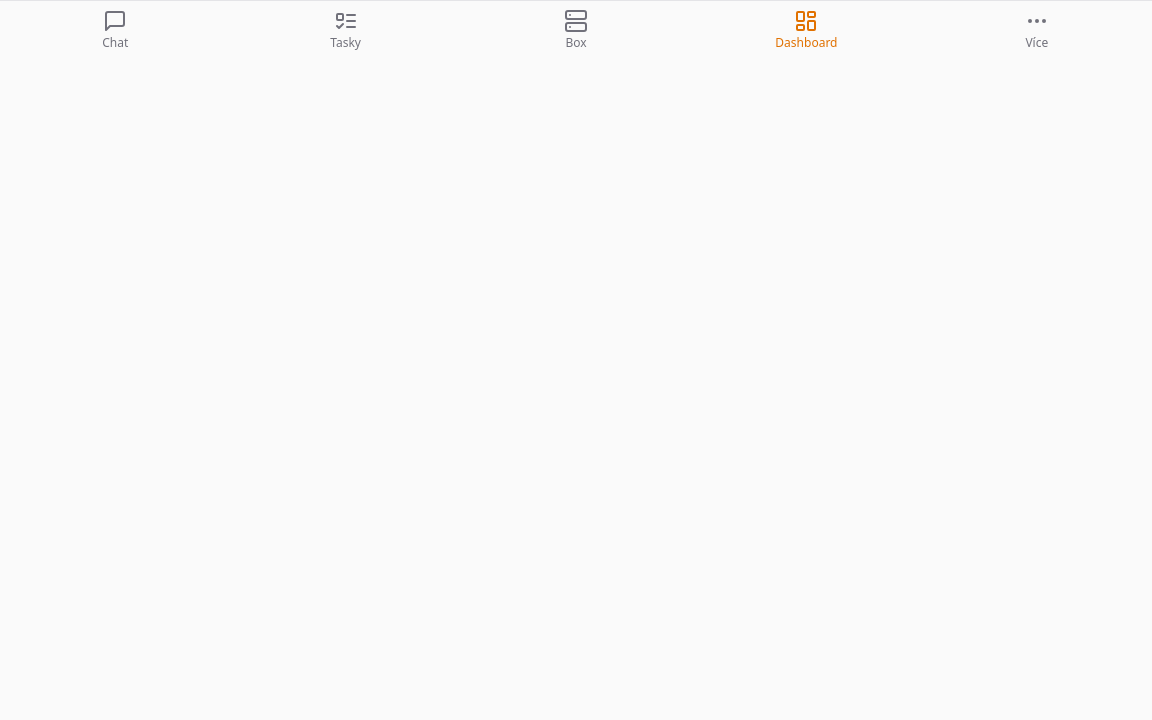
Test case: BottomNav › closes the sheet on backdrop click
The image size is (1152, 720).
Click the button "Více". click: (1037, 29)
box: [922,1,1151,57]
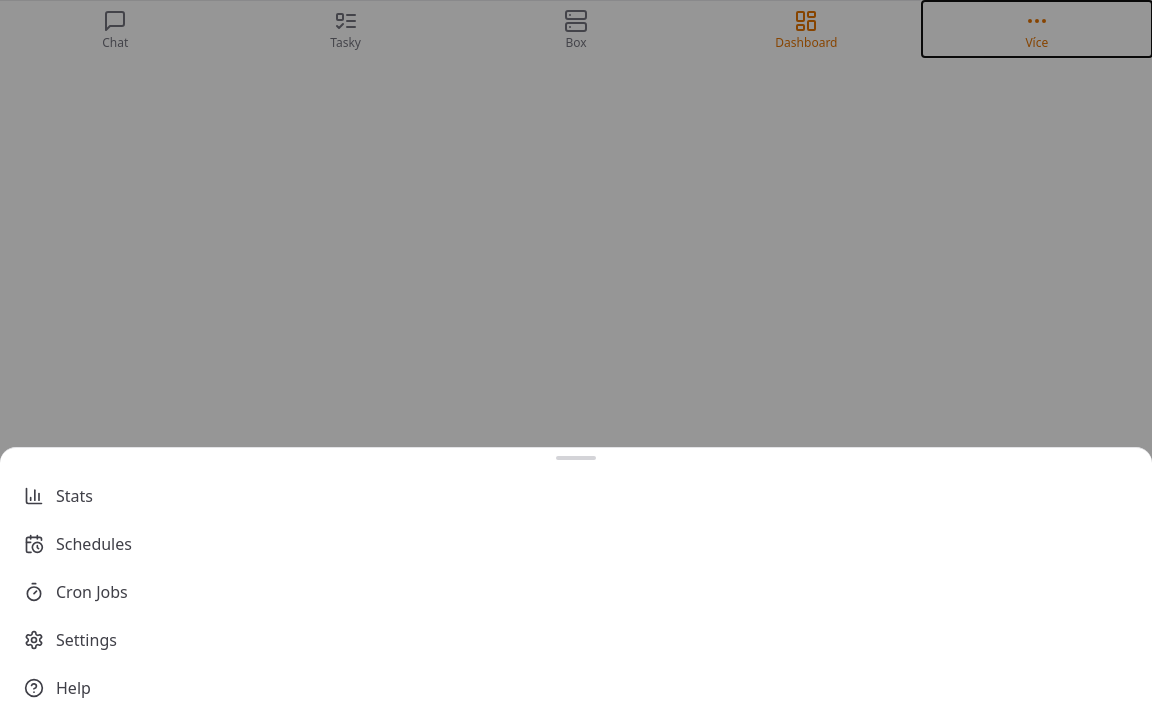
Click the element with test id "more-backdrop". click: (576, 360)
box: [0,0,1151,719]
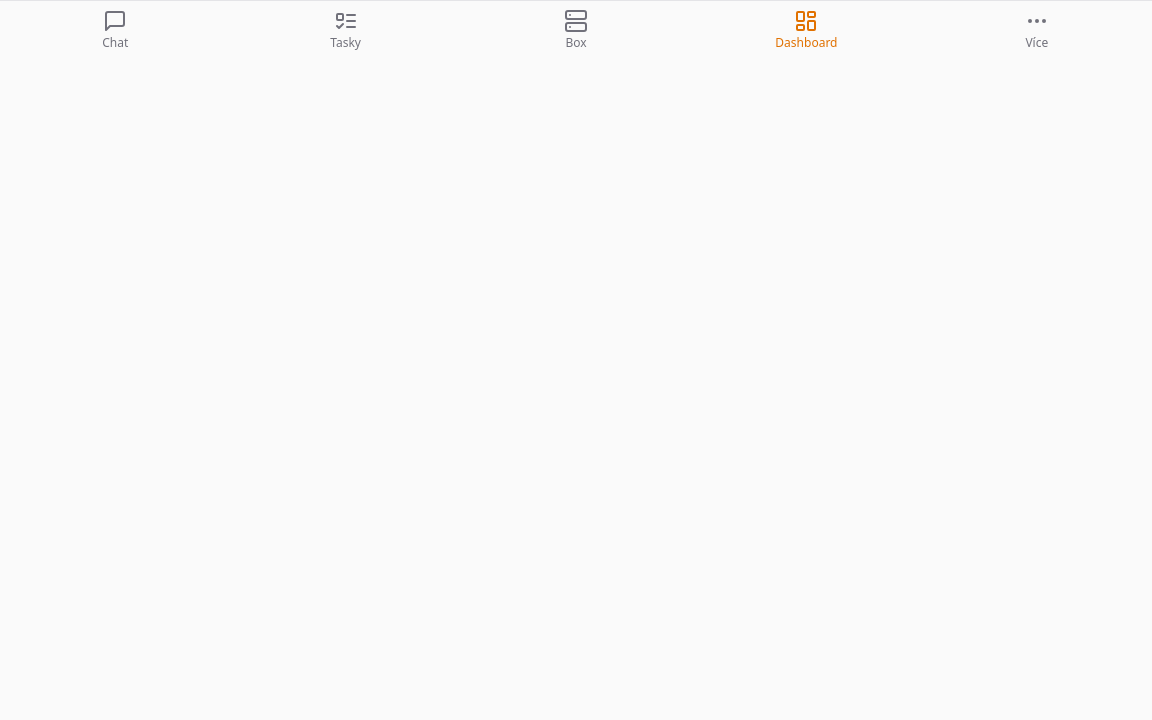
Check: the dialog is gone
